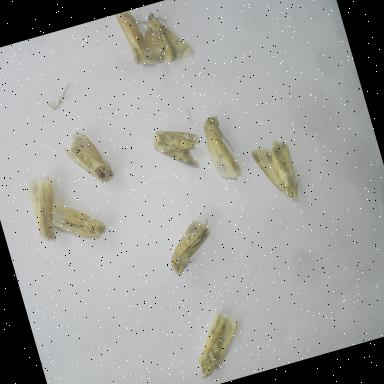abw: (181, 303, 254, 384), (122, 0, 199, 73), (245, 130, 310, 212), (52, 118, 120, 196), (156, 212, 226, 282), (143, 116, 211, 184), (21, 163, 73, 249), (45, 188, 113, 252), (196, 108, 246, 188), (116, 9, 156, 74)
